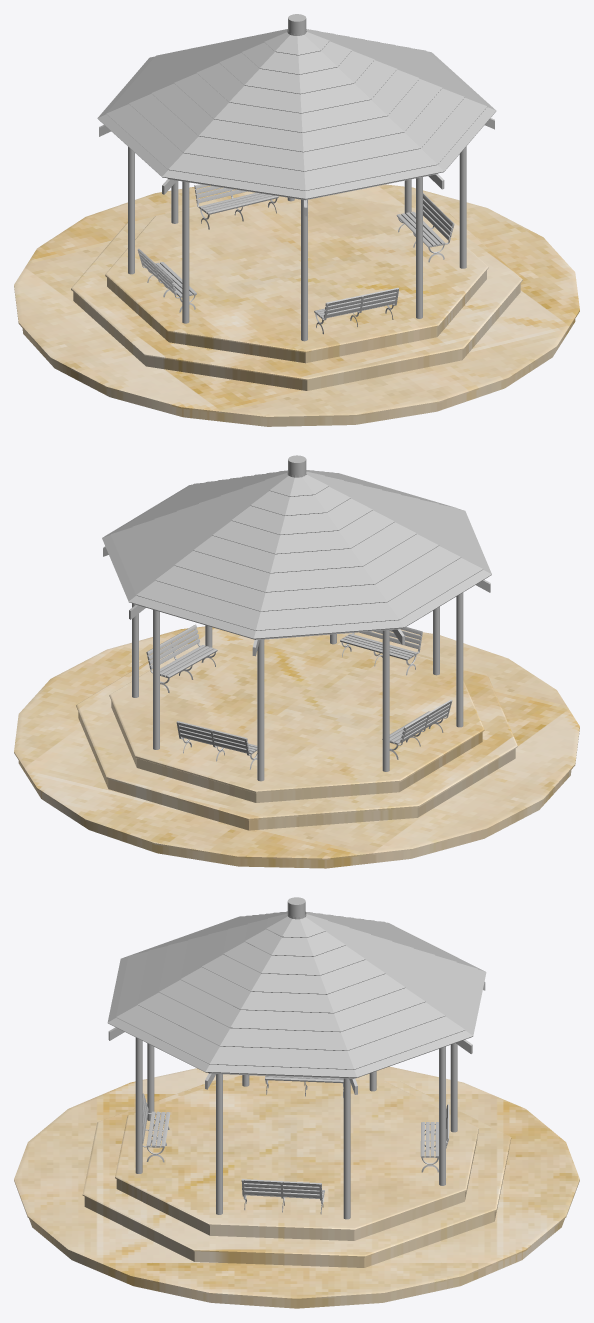
The model's file is Gazebo.fbx.
3 views of the same model, one above another, from view 1: azimuth 30°, elevation 25°; view 2: azimuth 150°, elevation 25°; view 3: azimuth 270°, elevation 25° (orthographic).
Visible parts, largest first — view 1: pCylinder34, GAZEBO_HEAD1, pCylinder35, Bench4; view 2: pCylinder34, GAZEBO_HEAD1, Bench4, pCylinder35; view 3: pCylinder34, GAZEBO_HEAD1, pCylinder35, Bench4.
Part boxes in pixels (box(x1,y1,x2,y2)): pCylinder34: box(14, 184, 579, 426); GAZEBO_HEAD1: box(97, 14, 496, 216); pCylinder35: box(128, 146, 466, 341); Bench4: box(137, 184, 454, 334); pCylinder34: box(14, 626, 579, 868); GAZEBO_HEAD1: box(102, 455, 491, 656); Bench4: box(146, 624, 452, 769); pCylinder35: box(132, 592, 463, 781); pCylinder34: box(14, 1066, 579, 1308); GAZEBO_HEAD1: box(107, 897, 486, 1094); pCylinder35: box(135, 1037, 457, 1219); Bench4: box(142, 1075, 449, 1214).
Bounding box in the file's own units: 8.13 × 4.6 × 8.13.
